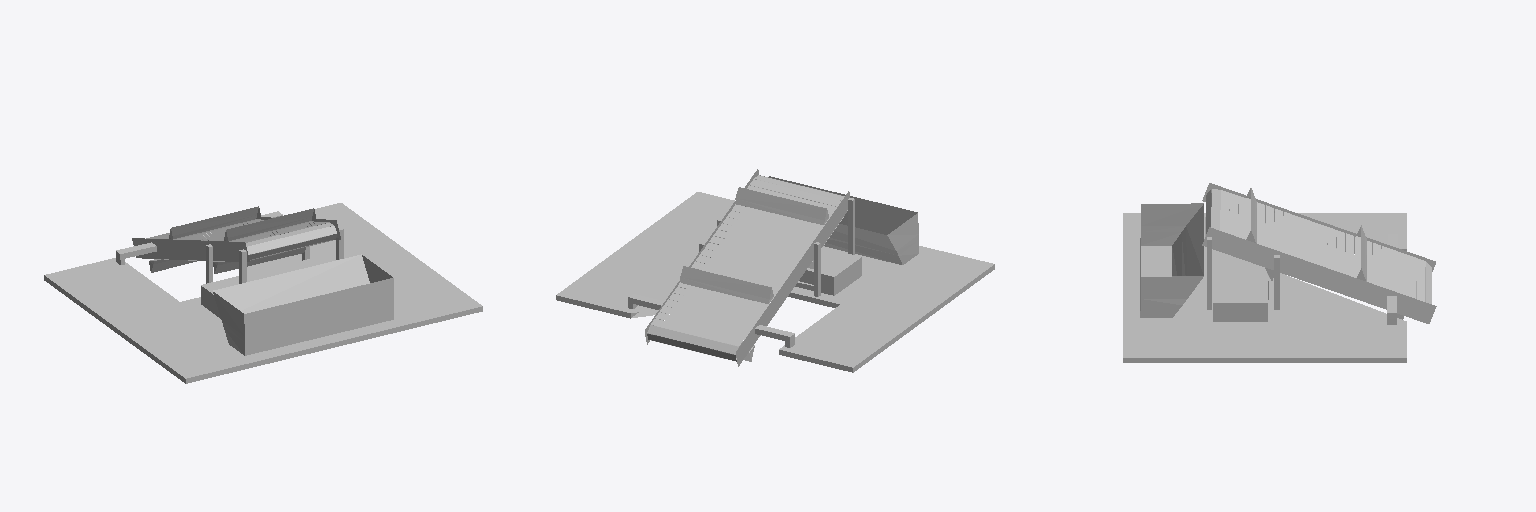
File: barco2 (michy).obj
The picture shows the model from 3 angles: view 1: azimuth 30°, elevation 25°; view 2: azimuth 150°, elevation 25°; view 3: azimuth 270°, elevation 25°; orthographic projection.
Visible parts, largest first — view 1: Plane.001, Plane.002, Plane, Plane.004, Plane.024_Plane.029, Plane.010, Plane.007_Plane.015, Plane.016_Plane.021; view 2: Plane.001, Plane, Plane.002, Plane.004, Plane.024_Plane.029, Plane.010, Plane.007_Plane.015; view 3: Plane.001, Plane, Plane.002, Plane.003, Plane.024_Plane.029, Plane.004, Plane.007_Plane.015, Plane.010.
Boxes of the visible parts, x1=… form: Plane.001: x1=44, y1=203, x2=482, y2=383; Plane.002: x1=213, y1=254, x2=393, y2=355; Plane: x1=146, y1=219, x2=336, y2=261; Plane.004: x1=132, y1=238, x2=249, y2=261; Plane.024_Plane.029: x1=201, y1=253, x2=344, y2=318; Plane.010: x1=224, y1=208, x2=316, y2=241; Plane.007_Plane.015: x1=169, y1=206, x2=261, y2=239; Plane.016_Plane.021: x1=213, y1=247, x2=305, y2=273; Plane.001: x1=556, y1=192, x2=994, y2=372; Plane: x1=647, y1=175, x2=847, y2=361; Plane.002: x1=745, y1=176, x2=918, y2=264; Plane.004: x1=736, y1=191, x2=849, y2=366; Plane.024_Plane.029: x1=699, y1=225, x2=861, y2=295; Plane.010: x1=735, y1=187, x2=828, y2=224; Plane.007_Plane.015: x1=680, y1=266, x2=773, y2=303; Plane.001: x1=1123, y1=213, x2=1406, y2=362; Plane: x1=1205, y1=189, x2=1431, y2=303; Plane.002: x1=1140, y1=203, x2=1203, y2=317; Plane.003: x1=1202, y1=227, x2=1436, y2=323; Plane.024_Plane.029: x1=1213, y1=250, x2=1268, y2=321; Plane.004: x1=1202, y1=183, x2=1435, y2=271; Plane.007_Plane.015: x1=1356, y1=225, x2=1366, y2=281; Plane.010: x1=1246, y1=188, x2=1256, y2=242.
Bounding box in the file's own units: 127 × 41.5 × 116.